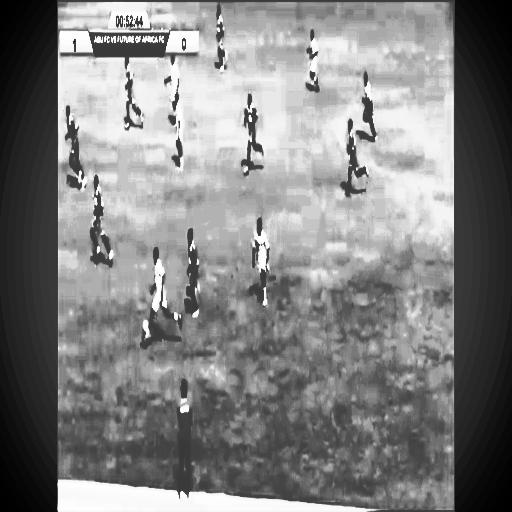ball: (139, 313, 150, 344)
referee: (357, 67, 383, 146)
team1: (147, 242, 183, 343), (248, 203, 274, 323), (164, 92, 192, 170), (306, 28, 322, 100), (167, 47, 181, 107)
team2: (83, 170, 123, 278), (236, 82, 270, 192), (115, 57, 148, 146), (336, 117, 369, 206), (60, 98, 88, 194), (206, 3, 232, 85), (184, 225, 204, 327)
